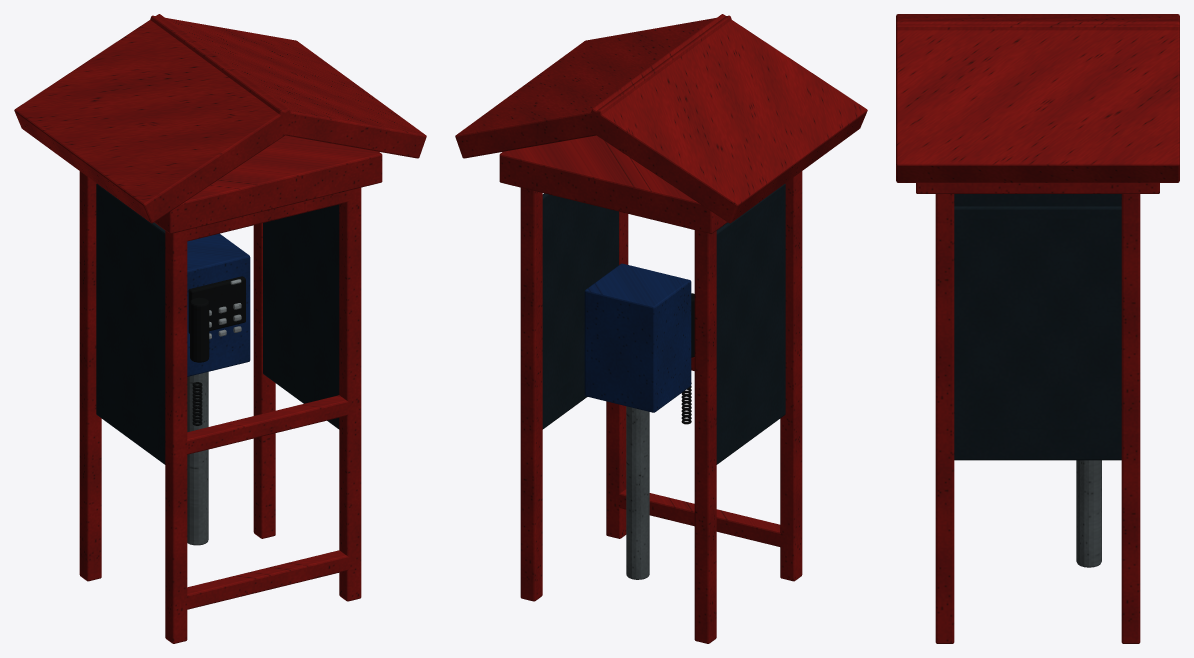
The model's file is PROP-66FA8ACD424A_lod0.glb.
3 renders of one model, left to right at view 1: azimuth 30°, elevation 25°; view 2: azimuth 150°, elevation 25°; view 3: azimuth 270°, elevation 25°, orthographic. The views are drawn at different scales.
Visible parts, largest first — view 1: pagoda_roof_wings, booth_posts, booth_glazing, booth_roof, booth_front_rails, cabinet.008, fixture_post.003, recessed_front.008, handset; view 2: pagoda_roof_wings, booth_posts, booth_glazing, cabinet.008, booth_roof, fixture_post.003, booth_front_rails; view 3: pagoda_roof_wings, booth_glazing, booth_posts, fixture_post.003, booth_roof.
Part boxes in pixels (x1,y1,x2,y2): pagoda_roof_wings: [14, 14, 426, 223]; booth_posts: [79, 171, 361, 643]; booth_glazing: [96, 184, 339, 464]; booth_roof: [154, 135, 382, 233]; booth_front_rails: [176, 188, 358, 609]; cabinet.008: [187, 233, 250, 376]; fixture_post.003: [187, 372, 208, 545]; recessed_front.008: [188, 276, 245, 333]; handset: [190, 297, 209, 362]; pagoda_roof_wings: [455, 14, 867, 223]; booth_posts: [520, 171, 802, 643]; booth_glazing: [542, 184, 785, 464]; cabinet.008: [584, 263, 691, 412]; booth_roof: [499, 135, 727, 233]; fixture_post.003: [626, 406, 649, 579]; booth_front_rails: [609, 179, 790, 547]; pagoda_roof_wings: [896, 14, 1179, 182]; booth_glazing: [954, 194, 1121, 460]; booth_posts: [935, 194, 1140, 643]; fixture_post.003: [1076, 460, 1101, 567]; booth_roof: [916, 183, 1159, 193].
Bounding box in the file's own units: 1.53 × 2.71 × 1.22.
6 materials, 6 textured.
